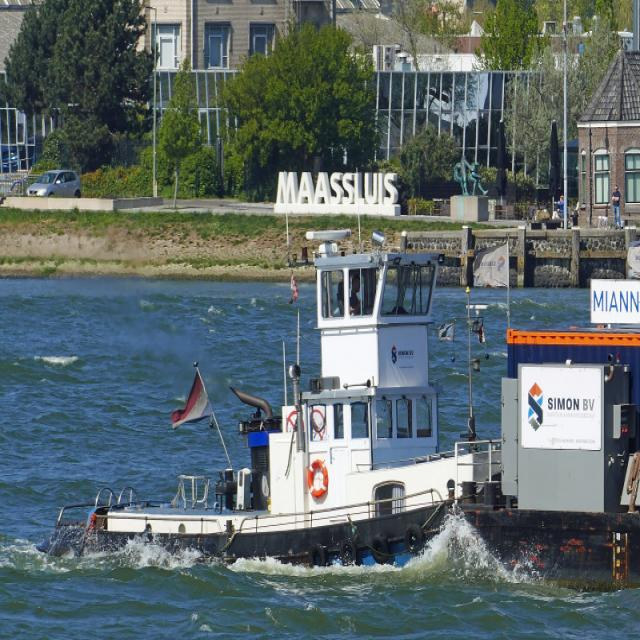tugboat: (31, 224, 544, 608)
